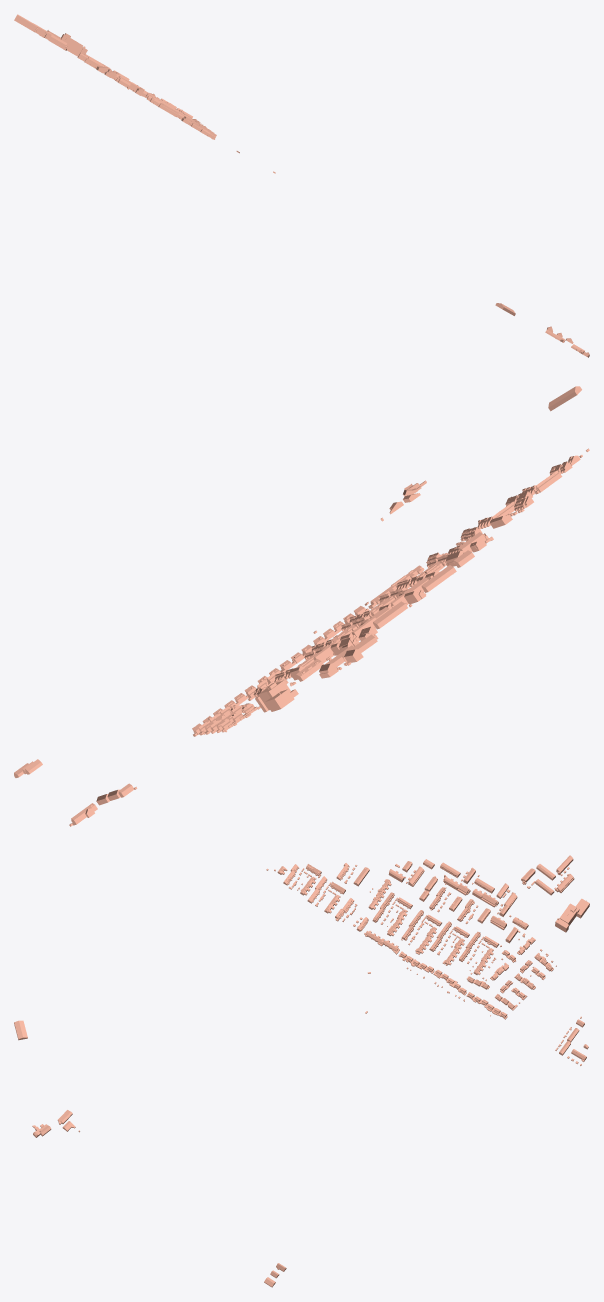
3 renders of one model, top to bottom at view 1: azimuth 30°, elevation 25°; view 2: azimuth 150°, elevation 25°; view 3: azimuth 270°, elevation 25°, orthographic. The views are drawn at different scales.
Size of the model in its own units: 836 by 615 by 1206.
